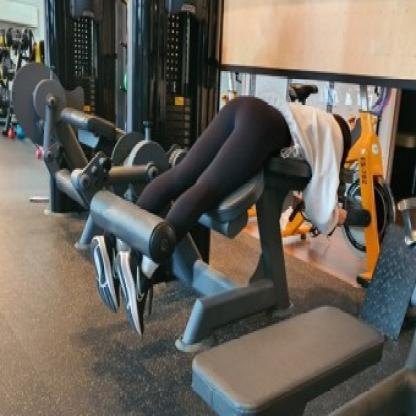reg curl machine: (68, 0, 375, 352)
